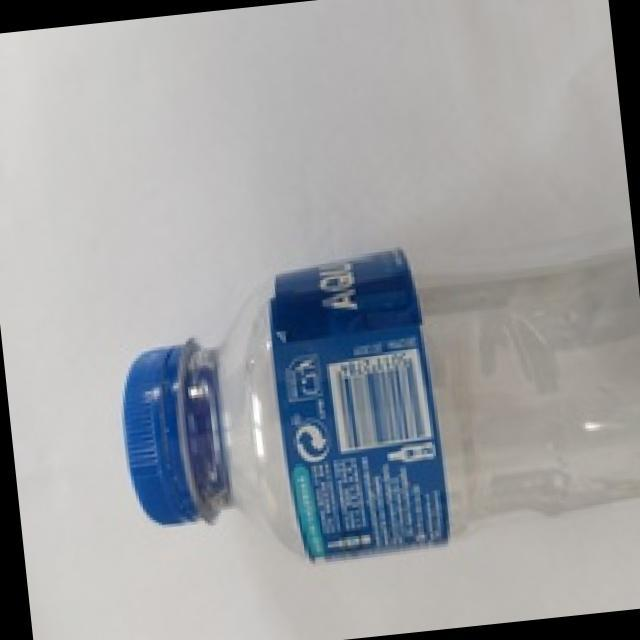good: (99, 226, 640, 585)
